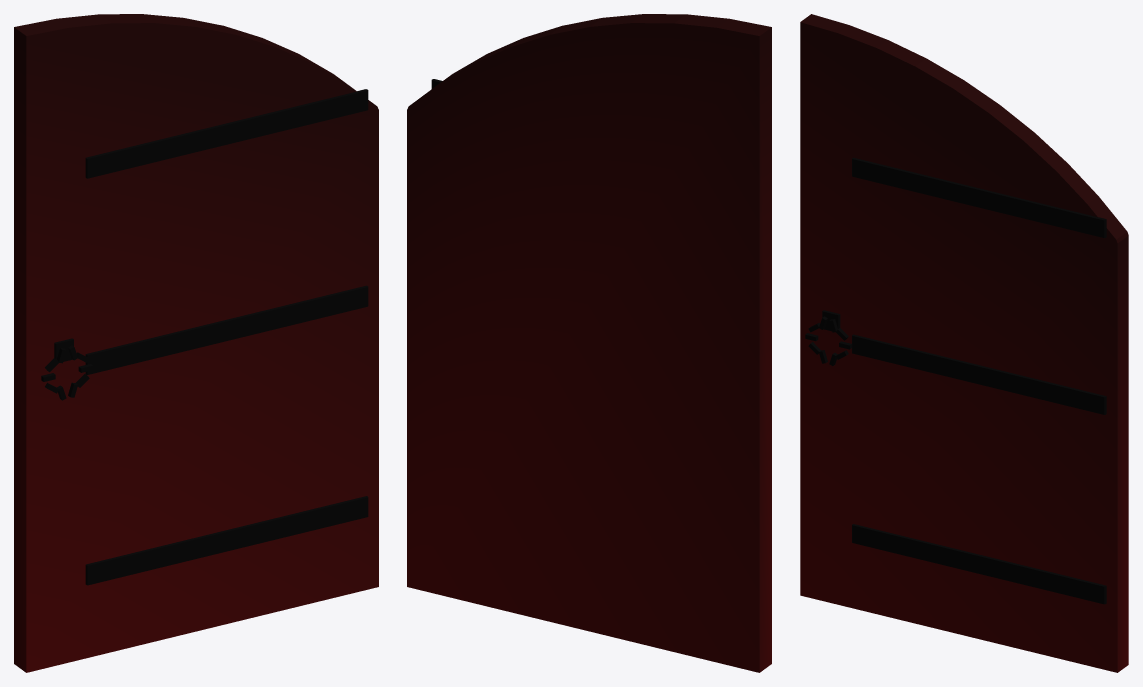
Rendered from SilverbrookStables_Door2.fbx.
3 renders of one model, left to right at view 1: azimuth 30°, elevation 25°; view 2: azimuth 150°, elevation 25°; view 3: azimuth 330°, elevation 25°, orthographic. The views are drawn at different scales.
Visible parts, largest first — view 1: SM_SBStables_Door2_Part; view 2: SM_SBStables_Door2_Part; view 3: SM_SBStables_Door2_Part.
Boxes of the visible parts, left/top/right/bottom form: SM_SBStables_Door2_Part: left=14, top=14, right=378, bottom=672; SM_SBStables_Door2_Part: left=407, top=14, right=771, bottom=672; SM_SBStables_Door2_Part: left=800, top=14, right=1128, bottom=672.
Size of the model in its own units: 132 by 227 by 11.8.
